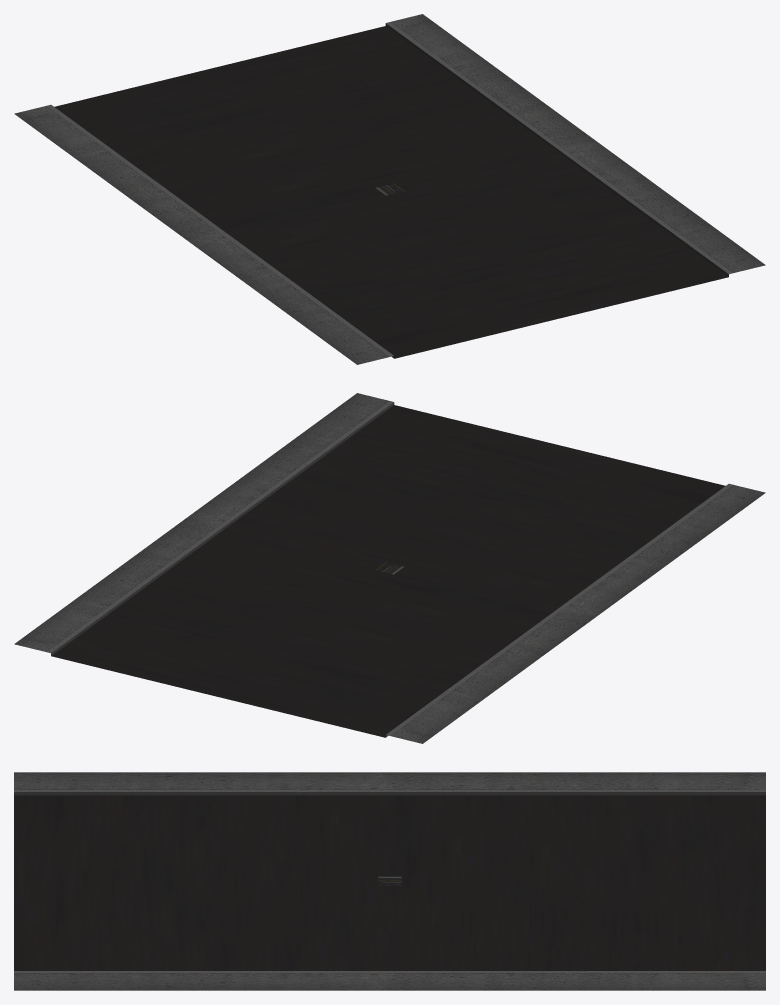
The model's file is RJs_Road Pass 2+4+2 Basic Node_lod.fbx.
The picture shows the model from 3 angles, top to bottom: view 1: azimuth 30°, elevation 25°; view 2: azimuth 150°, elevation 25°; view 3: azimuth 270°, elevation 25°; orthographic projection. The views are drawn at different scales.
Visible parts, largest first — view 1: plane_lod; view 2: plane_lod; view 3: plane_lod.
Boxes of the visible parts, box(x1,y1,x2,y2) form: plane_lod: box(14, 14, 765, 364); plane_lod: box(14, 393, 765, 743); plane_lod: box(14, 772, 765, 990).
Bounding box in the file's own units: 4400 × 30.1 × 6400.
